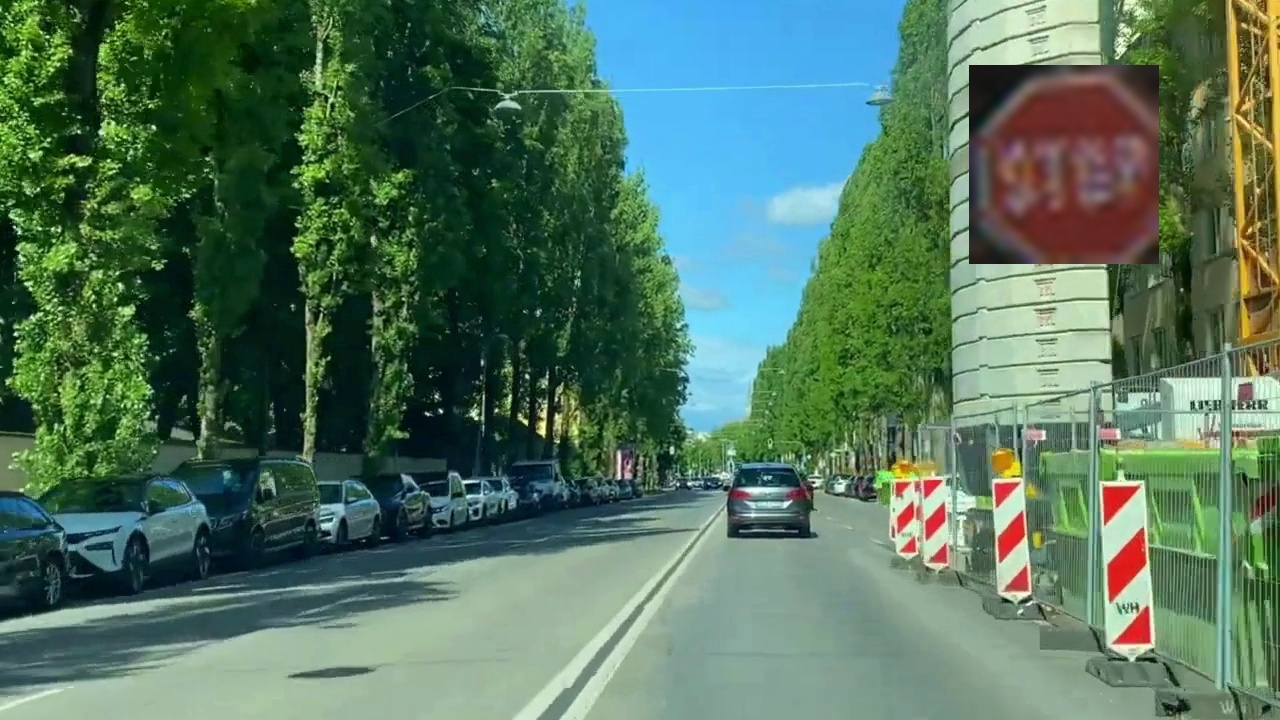Stop: (969, 65, 1159, 264)
